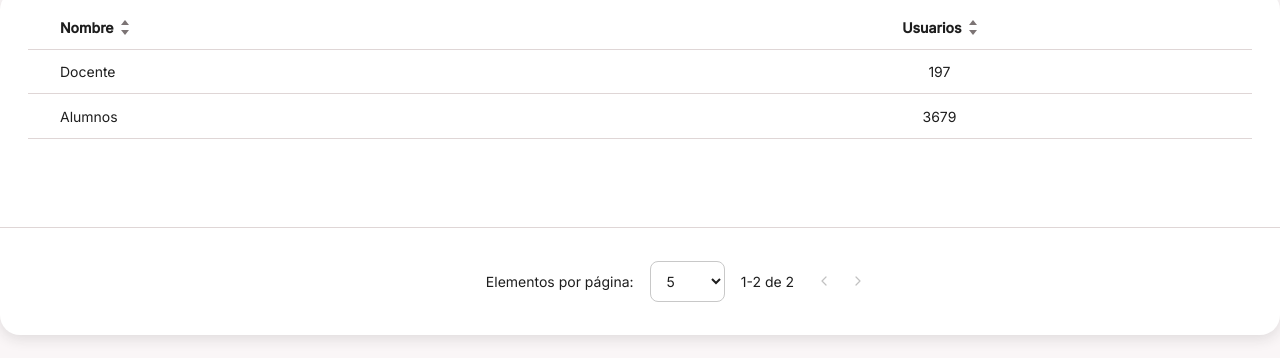
Test: UiTableComponent › orders a sortable column and announces the direction
Click the button with class "table-card__sort" showing "Nombre". click: (94, 27)
box: top-left (60, 17), bottom-right (129, 38)
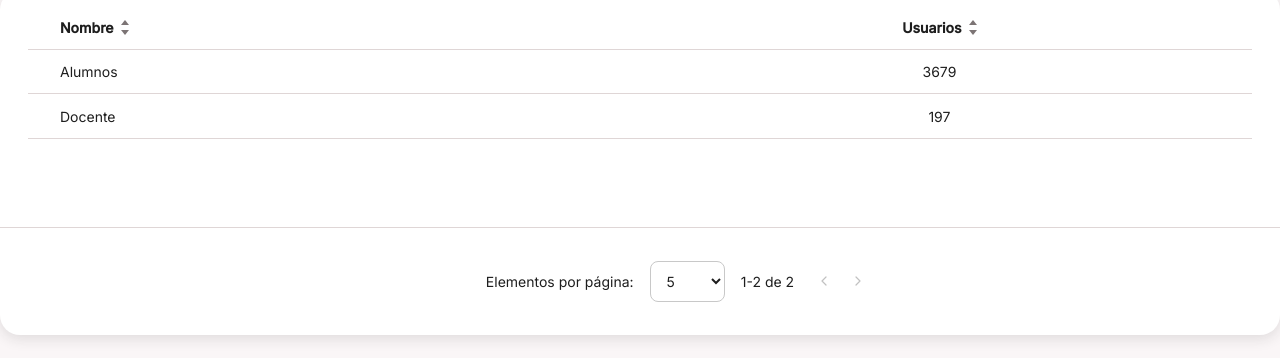
Result: the cell "Alumnos" is shown at top-left (28, 49), bottom-right (627, 94)
